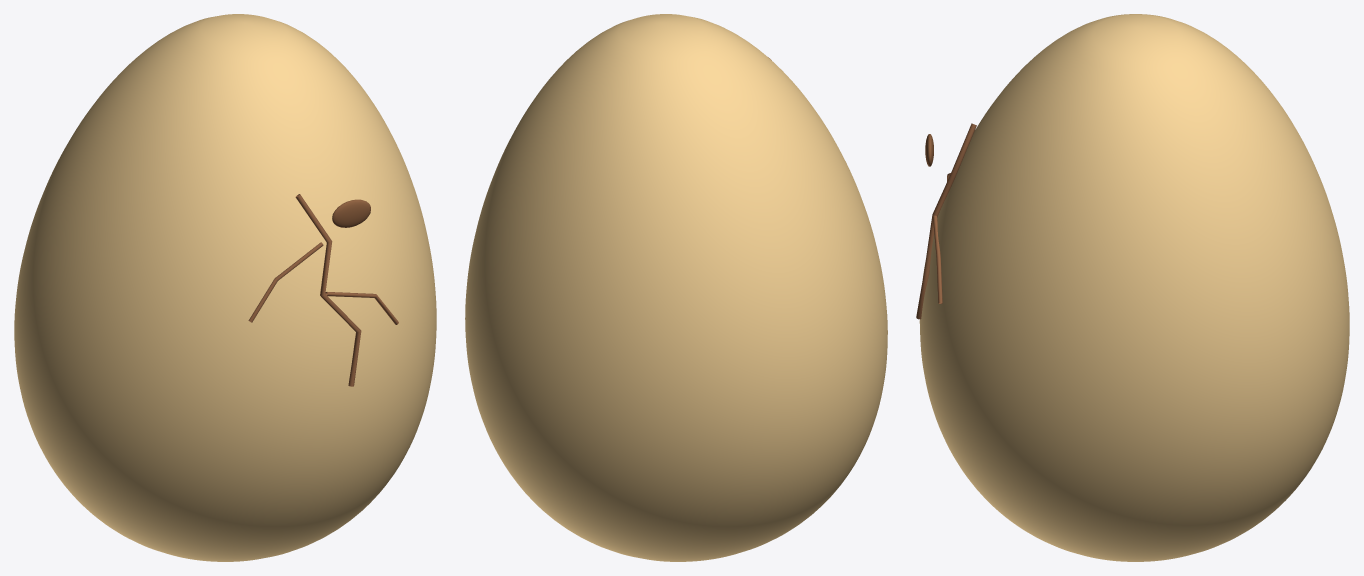
File: impact_egg_slight.glb
3 renders of one model, left to right at view 1: azimuth 30°, elevation 25°; view 2: azimuth 150°, elevation 25°; view 3: azimuth 270°, elevation 25°, orthographic.
Visible parts, largest first — view 1: Egg_SlightDamage, Main hairline crack, Small chipped shell; view 2: Egg_SlightDamage; view 3: Egg_SlightDamage, Main hairline crack.
Boxes of the visible parts, left/top/right/bottom form: Egg_SlightDamage: left=14, top=14, right=436, bottom=561; Main hairline crack: left=295, top=194, right=361, bottom=386; Small chipped shell: left=332, top=199, right=370, bottom=227; Egg_SlightDamage: left=465, top=14, right=887, bottom=561; Egg_SlightDamage: left=919, top=14, right=1349, bottom=561; Main hairline crack: left=916, top=123, right=976, bottom=319.
Size of the model in its own units: 0.9758 by 1.31 by 0.9815.
